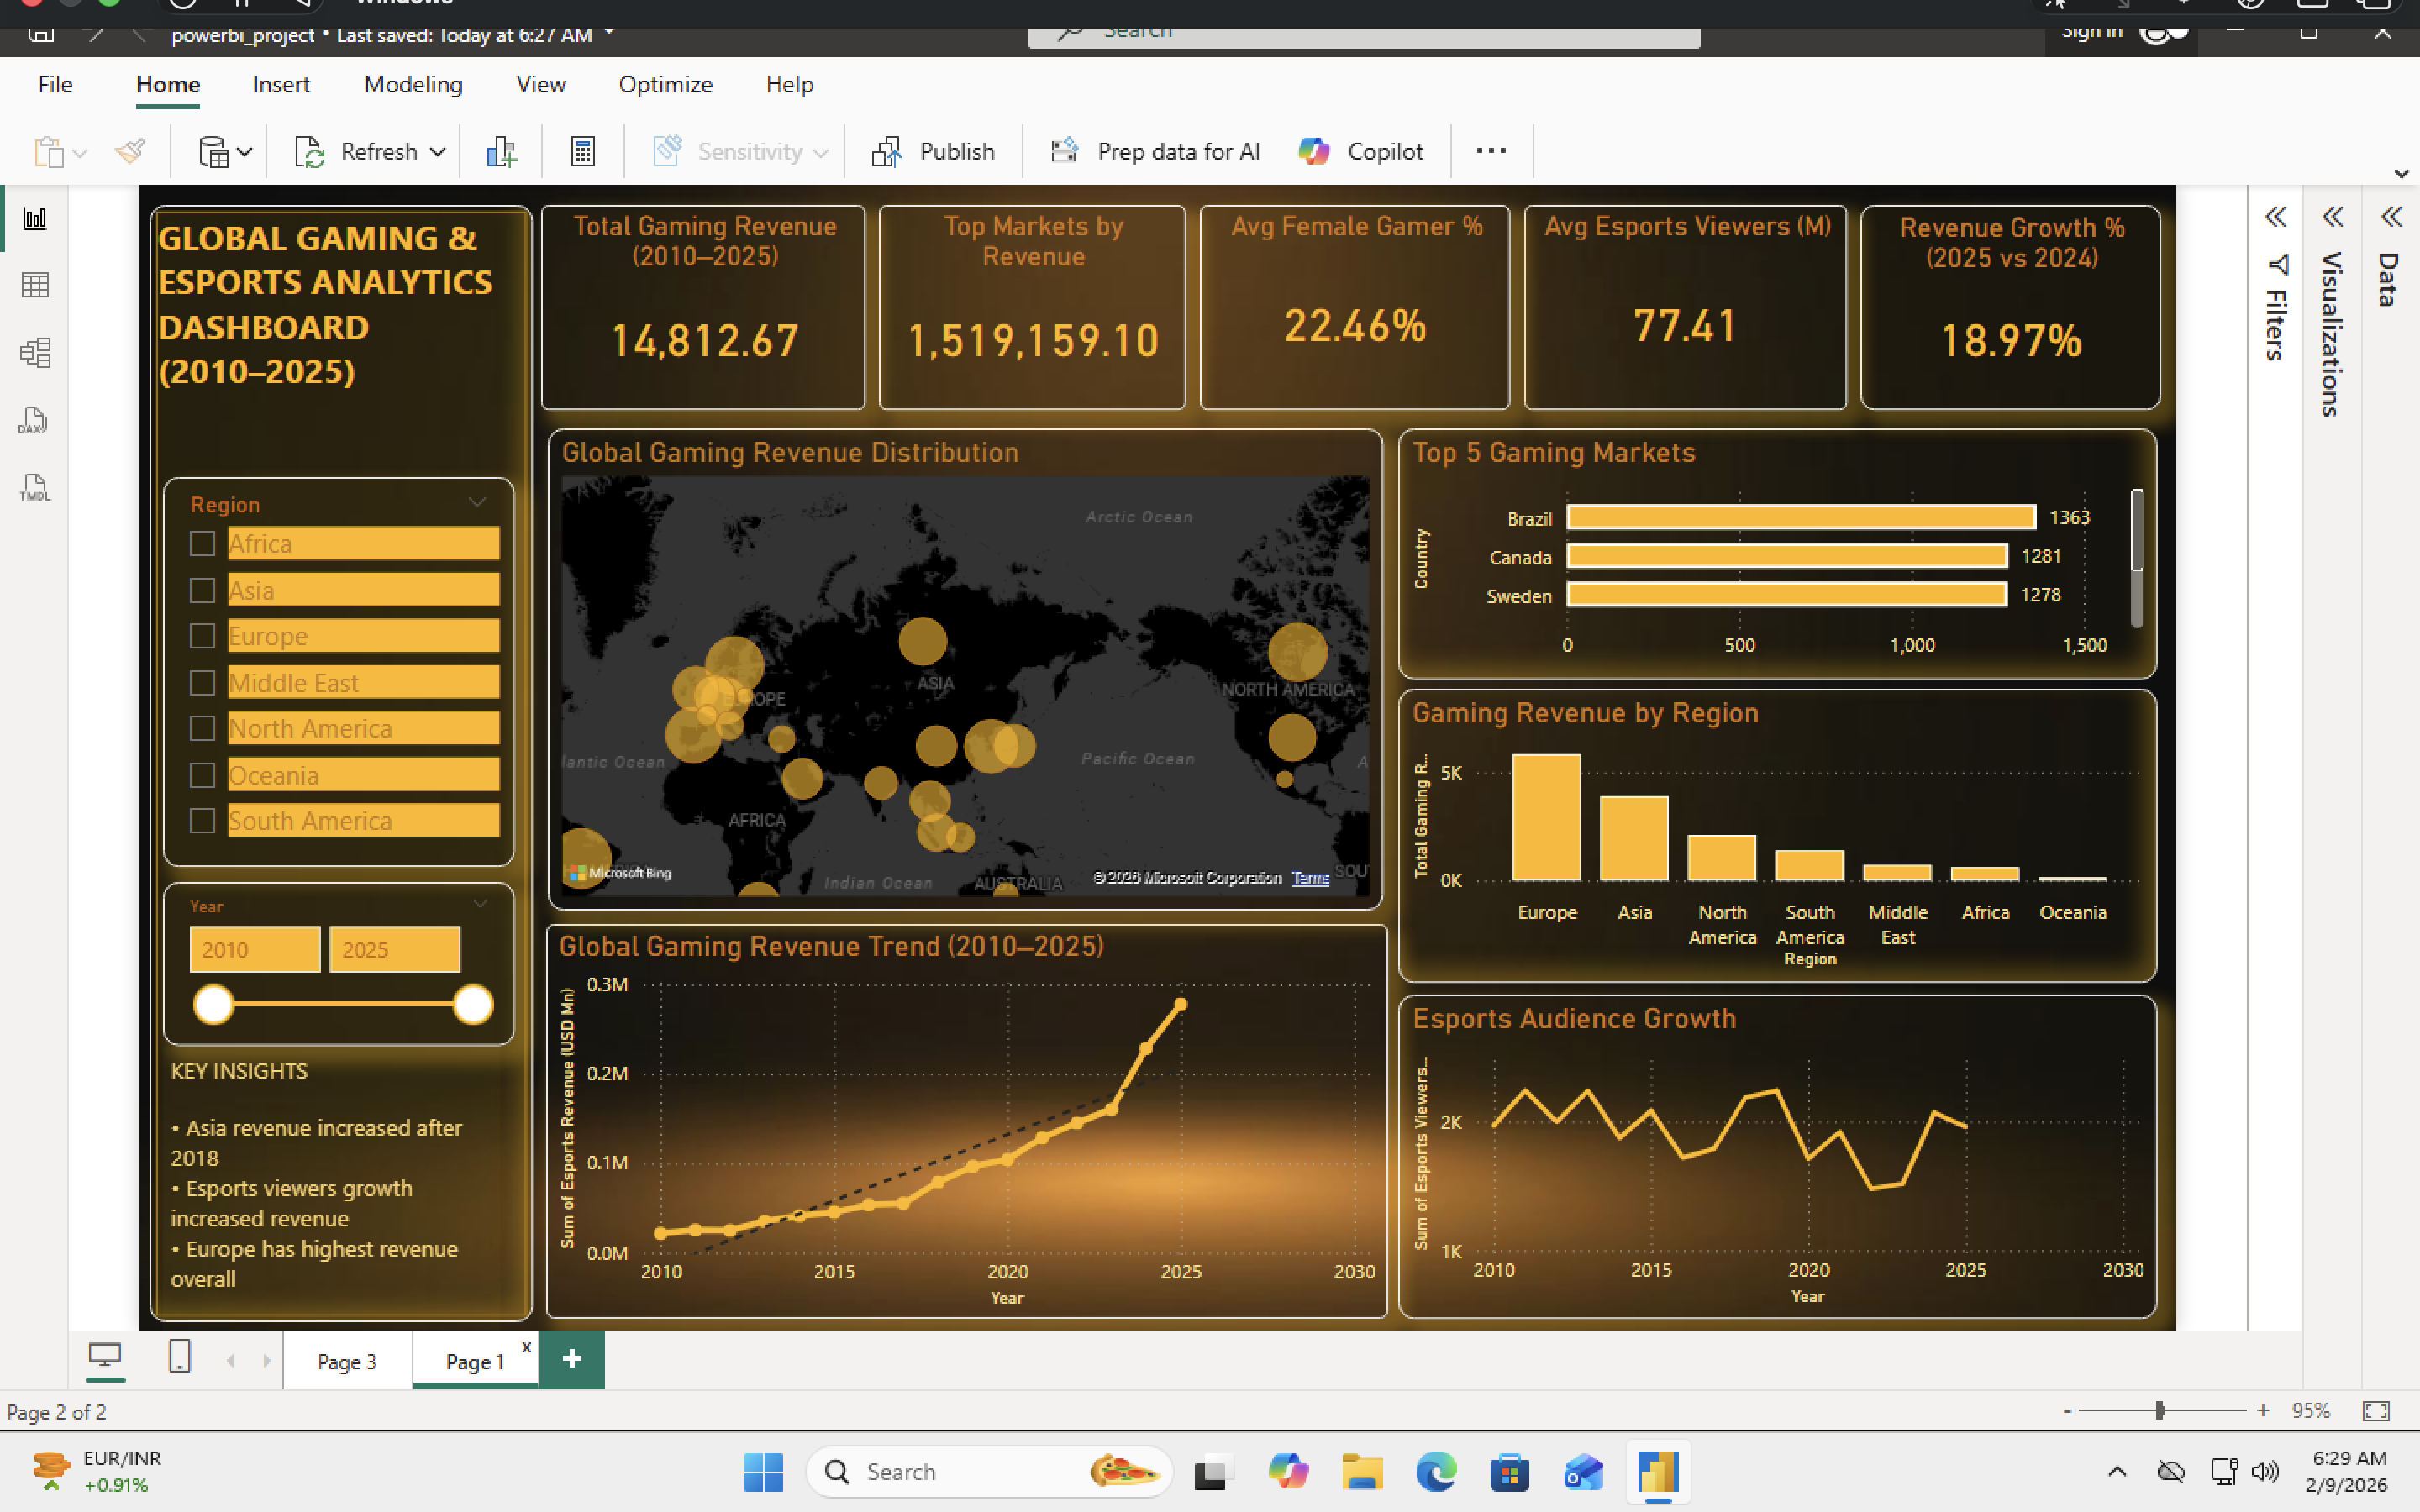

What the dashboard file says about the page in this screenshot:
{"tool":"powerbi","page":{"name":"Page 1","canvas":[1280,720],"ordinal":1},"visuals":[{"type":"shape","box":[6.4,12.7,241,702.5],"z":0},{"type":"card","title":"Total Gaming Revenue (2010–2025)","fields":{"Values":["global_gaming_esports_2010_2025.Total Gaming Revenue (USD Bn)"]},"box":[252.4,12.7,204,128.8],"z":1000},{"type":"card","title":"Top Markets by Revenue","fields":{"Values":["global_gaming_esports_2010_2025.Total Esports Revenue (USD Mn)"]},"box":[465,12.7,192.5,128.8],"z":2000},{"type":"card","title":"Avg Esports Viewers (M)","fields":{"Values":["global_gaming_esports_2010_2025.Avg Esports Viewers (M)"]},"box":[869.8,12.7,202.7,128.8],"z":3000},{"type":"card","title":"Avg Female Gamer %","fields":{"Values":["global_gaming_esports_2010_2025.Avg Female Gamer %"]},"box":[666.1,12.7,195.1,128.8],"z":4000},{"type":"lineChart","title":"Global Gaming Revenue Trend (2010–2025)","fields":{"Category":["global_gaming_esports_2010_2025.Year"],"Y":["Sum(global_gaming_esports_2010_2025.Esports Revenue (USD Mn))"]},"box":[255.2,464.8,528.6,248.4],"z":5000},{"type":"lineChart","title":"Esports Audience Growth","fields":{"Y":["Sum(global_gaming_esports_2010_2025.Esports Viewers (Mn))"],"Category":["global_gaming_esports_2010_2025.Year"]},"box":[790.6,509.2,477.3,203.9],"z":6000},{"type":"columnChart","title":"Gaming Revenue by Region","fields":{"Category":["global_gaming_esports_2010_2025.Region"],"Y":["global_gaming_esports_2010_2025.Total Gaming Revenue (USD Bn)"]},"box":[790.6,316.7,477.3,184.6],"z":7000},{"type":"barChart","title":"Top 5 Gaming Markets","fields":{"Category":["global_gaming_esports_2010_2025.Country"],"Y":["global_gaming_esports_2010_2025.Total Gaming Revenue (USD Bn)"]},"box":[790.6,152.7,477.3,158.4],"z":8000},{"type":"slicer","fields":{"Values":["global_gaming_esports_2010_2025.Region"]},"box":[15.3,183.6,220.6,244.8],"z":9000},{"type":"map","title":"Global Gaming Revenue Distribution","fields":{"Category":["global_gaming_esports_2010_2025.Country"],"Size":["global_gaming_esports_2010_2025.Total Gaming Revenue (USD Bn)"]},"box":[256.3,152.7,525.2,303],"z":10000},{"type":"textbox","box":[6.4,12.7,229.5,147.9],"z":11000},{"type":"slicer","fields":{"Values":["global_gaming_esports_2010_2025.Year"]},"box":[14.8,438.1,220.6,103.5],"z":12000},{"type":"card","title":"Revenue Growth % (2025 vs 2024)","fields":{"Values":["global_gaming_esports_2010_2025.Revenue Growth %"]},"box":[1081.1,12.7,188.7,128.8],"z":13000},{"type":"textbox","box":[15.3,541.8,211.6,178.5],"z":14000}]}

Visuals, with their boxes on the page's 1280x720 design canvas (x1, y1, x2, y2). These are canvas units, not pixel positions in the 2420x1512 screenshot, which may show the page scaled, cropped or inside an application window:
shape: bbox=[6, 13, 247, 715]
"Total Gaming Revenue (2010–2025)" card: bbox=[252, 13, 456, 142]
"Top Markets by Revenue" card: bbox=[465, 13, 658, 142]
"Avg Esports Viewers (M)" card: bbox=[870, 13, 1072, 142]
"Avg Female Gamer %" card: bbox=[666, 13, 861, 142]
"Global Gaming Revenue Trend (2010–2025)" lineChart: bbox=[255, 465, 784, 713]
"Esports Audience Growth" lineChart: bbox=[791, 509, 1268, 713]
"Gaming Revenue by Region" columnChart: bbox=[791, 317, 1268, 501]
"Top 5 Gaming Markets" barChart: bbox=[791, 153, 1268, 311]
slicer - global_gaming_esports_2010_2025.Region: bbox=[15, 184, 236, 428]
"Global Gaming Revenue Distribution" map: bbox=[256, 153, 782, 456]
textbox: bbox=[6, 13, 236, 161]
slicer - global_gaming_esports_2010_2025.Year: bbox=[15, 438, 235, 542]
"Revenue Growth % (2025 vs 2024)" card: bbox=[1081, 13, 1270, 142]
textbox: bbox=[15, 542, 227, 720]
